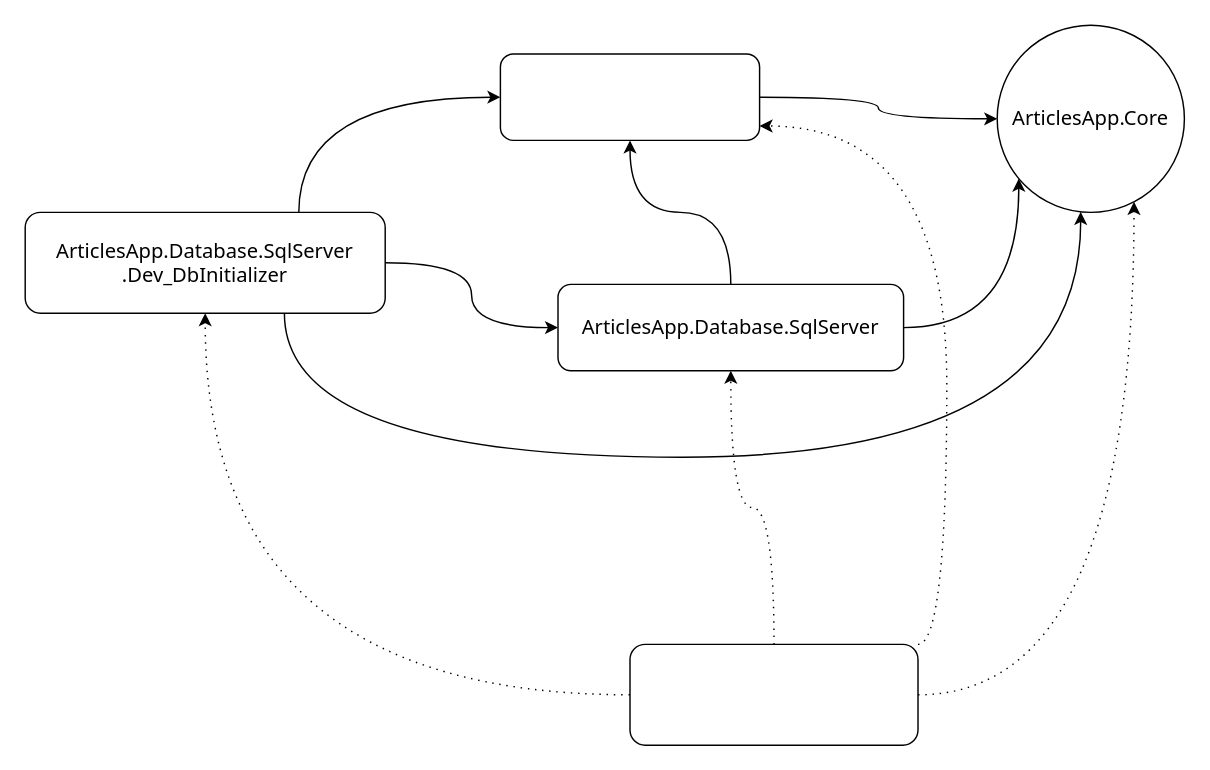
Image size: 1210x770. Some labels were removed from this diagram. The box of each missing label's shape, as (x1, y1, x2, y2) in pixels:
ArticlesApp.AppBackend (WebAPI): (629, 643, 918, 745)
ArticlesApp.Database: (499, 53, 760, 140)
